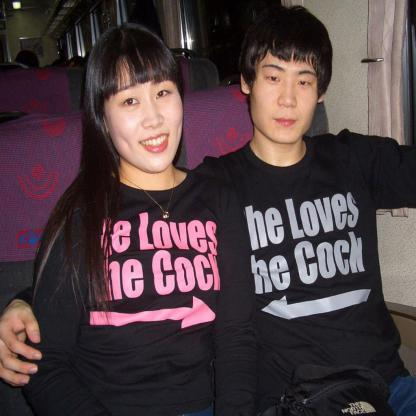face: (109, 46, 186, 172), (251, 34, 321, 144)
